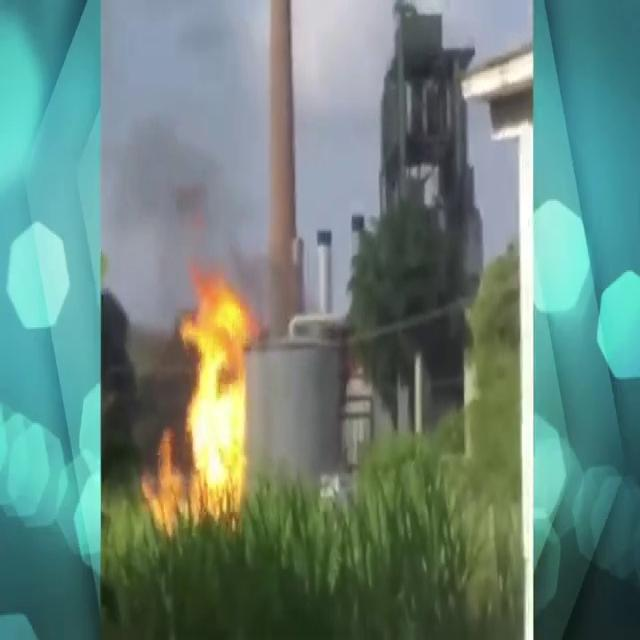Fire: (194, 320, 246, 475)
